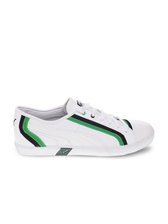shoes: (11, 102, 156, 155)
